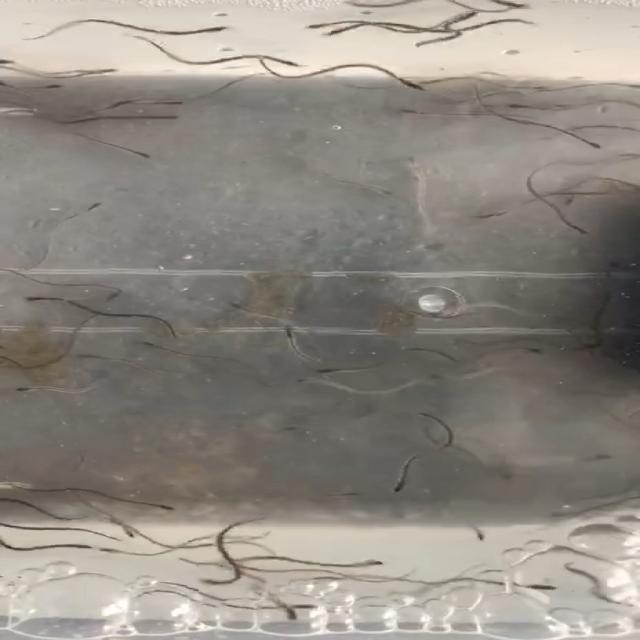active_glass_eel: (90, 516, 145, 542), (562, 218, 614, 245), (316, 479, 370, 505), (180, 18, 246, 38), (398, 74, 448, 100), (378, 475, 424, 501), (384, 98, 437, 120), (271, 369, 318, 392), (479, 200, 514, 229), (182, 568, 221, 593), (88, 283, 132, 305), (362, 178, 400, 202), (467, 530, 505, 554), (78, 57, 110, 81), (126, 335, 170, 352), (4, 376, 38, 398), (406, 36, 443, 56), (518, 576, 561, 593), (76, 194, 112, 214), (569, 130, 601, 152), (397, 155, 435, 173), (525, 344, 565, 361), (154, 108, 182, 132), (153, 502, 185, 523), (301, 359, 340, 375), (432, 370, 464, 388), (211, 296, 246, 312), (113, 147, 153, 160), (65, 345, 102, 359), (273, 612, 310, 626), (300, 16, 329, 32), (322, 24, 345, 44), (102, 95, 134, 109), (542, 510, 579, 522), (41, 78, 65, 95), (24, 291, 48, 308), (584, 342, 608, 358), (276, 328, 307, 340), (349, 556, 374, 569), (272, 57, 296, 70)
